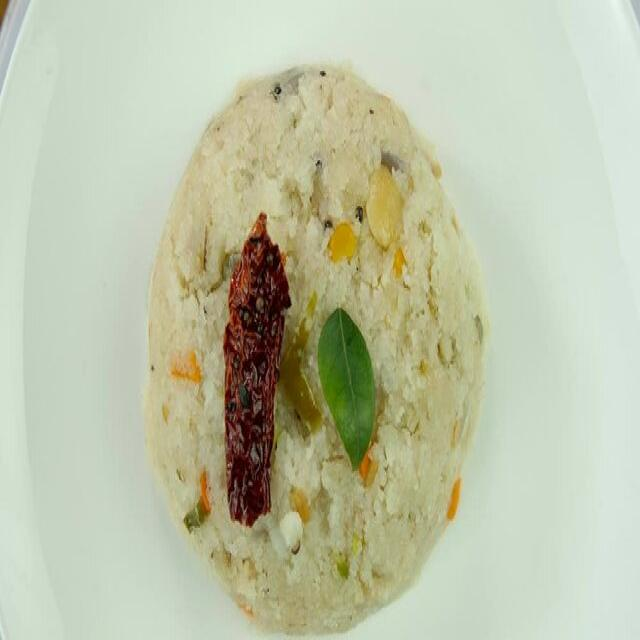UPMA: (145, 66, 488, 631)
